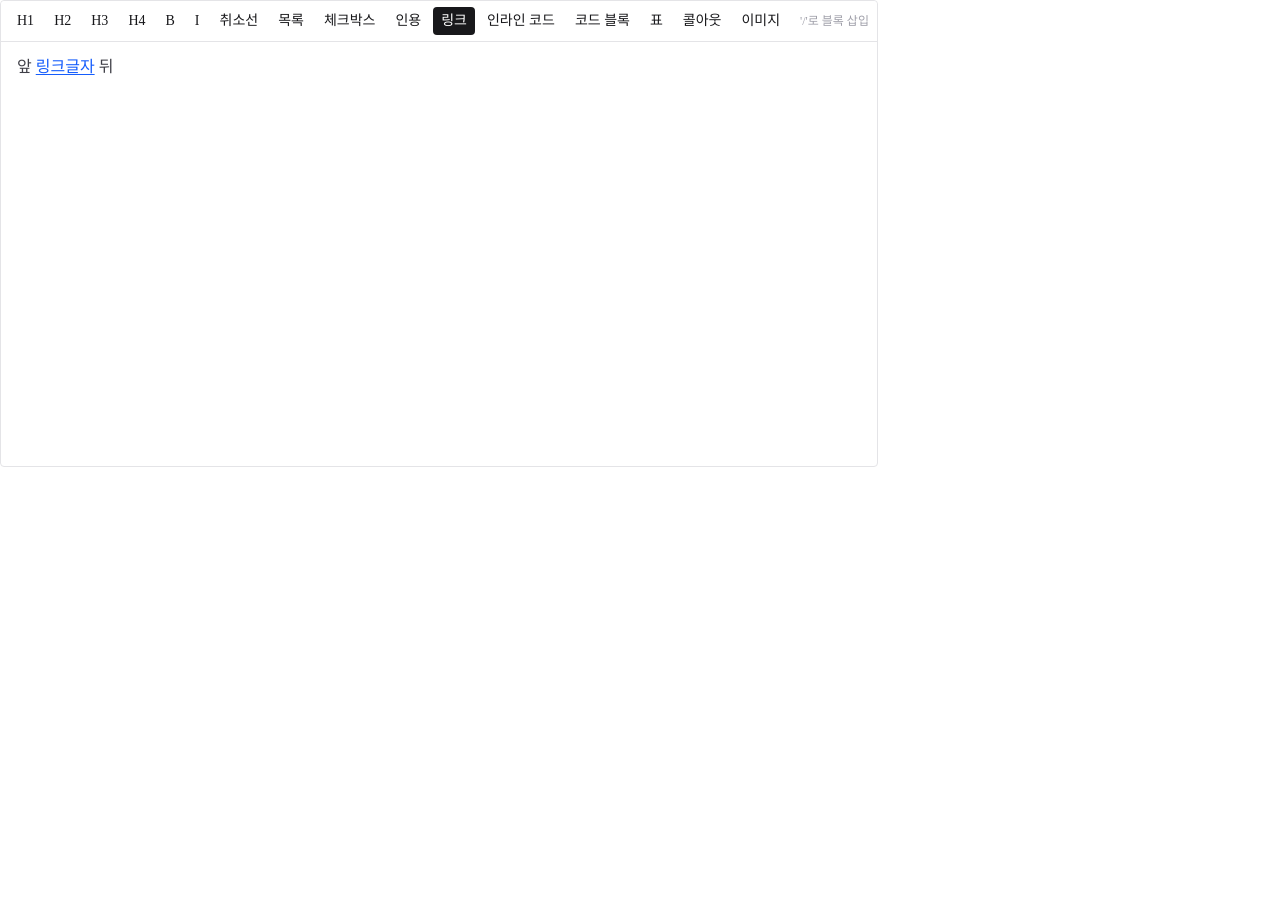
링크 주소 팝업: 열기 › 툴바 링크 버튼: 커서가 링크 글자 끝 경계에 있어도 링크로 본다
Expected: the field labelled "앞 링크글자 뒤" is shown, left=17, top=58, right=113, bottom=75
Click the button "링크" at (454, 21), box left=433, top=7, right=475, bottom=35
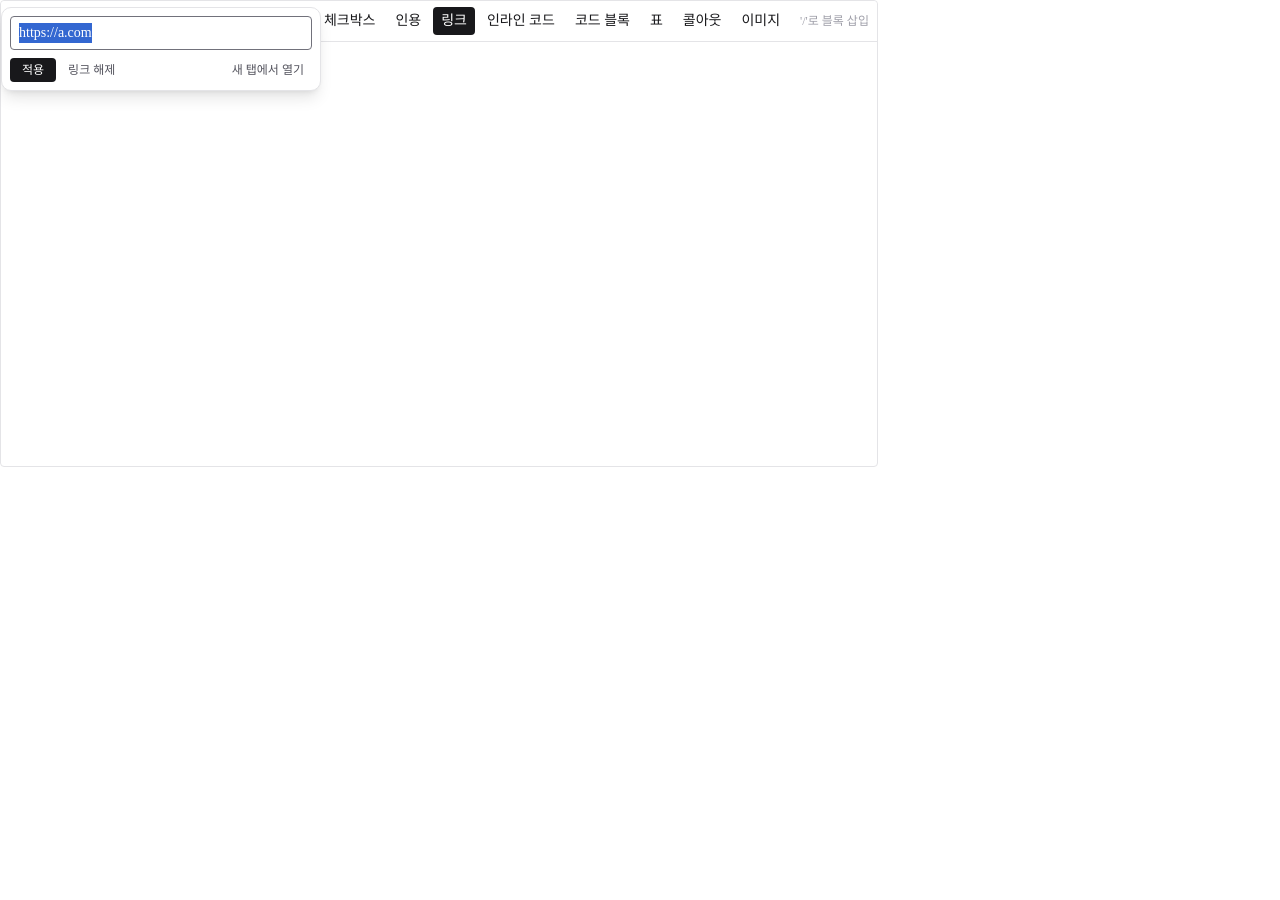
Expected: the field named "링크 주소" holds "https://a.com", left=10, top=16, right=312, bottom=50
